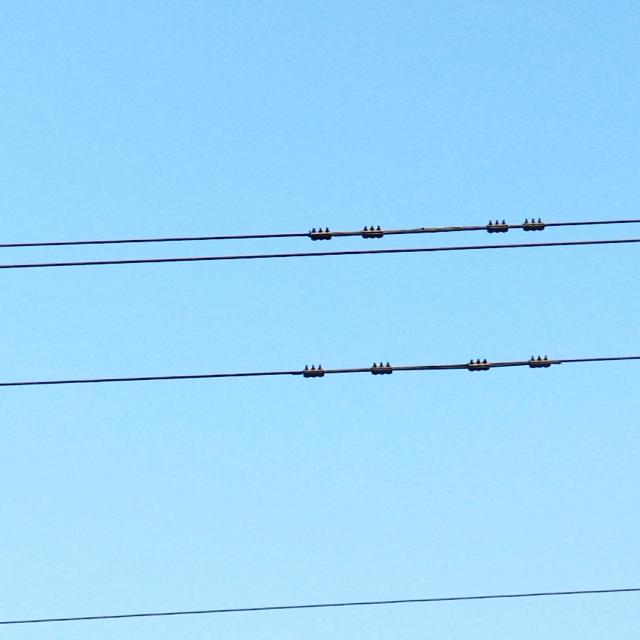wire: (0, 585, 640, 626), (1, 237, 640, 271)
